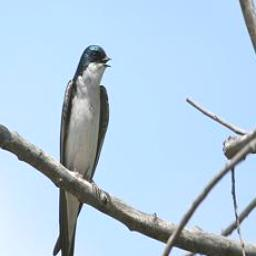Swallow: (52, 44, 112, 256)
